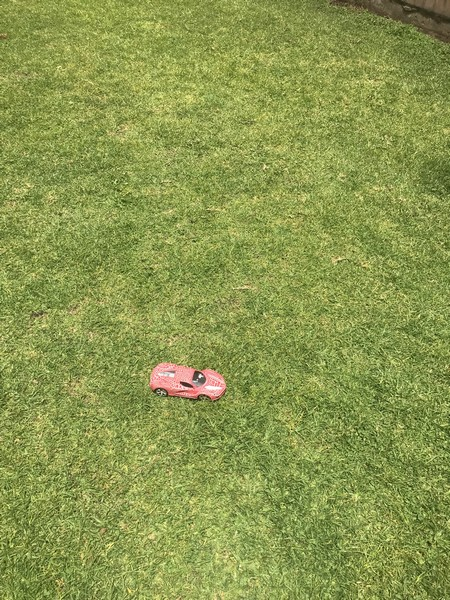RC: (148, 357, 228, 405)
